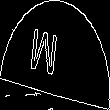M_S: (39, 25, 71, 85)
